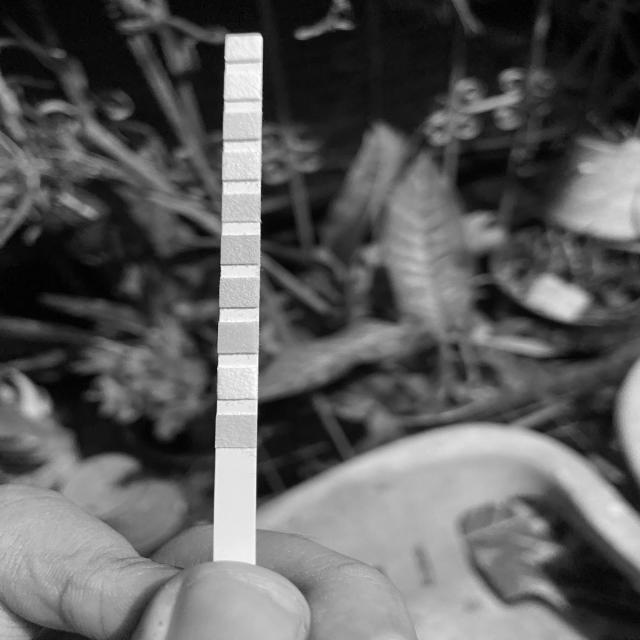Bilirubin: (220, 368, 256, 398)
Blood: (222, 236, 258, 264)
Glucose: (216, 416, 257, 446)
Ketone: (220, 323, 257, 352)
Leukocytes: (227, 38, 261, 58)
Nitrite: (226, 74, 260, 98)
Protein: (224, 154, 258, 178)
SpGravity: (222, 279, 256, 307)
Urobilinogen: (224, 114, 260, 139)
background: (0, 0, 640, 640)
pH: (224, 194, 260, 220)
strip: (214, 32, 262, 561)
